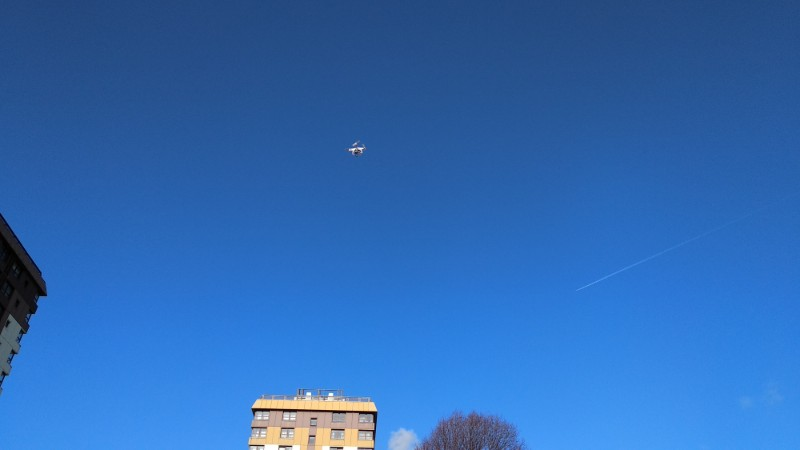drone: (345, 140, 367, 158)
